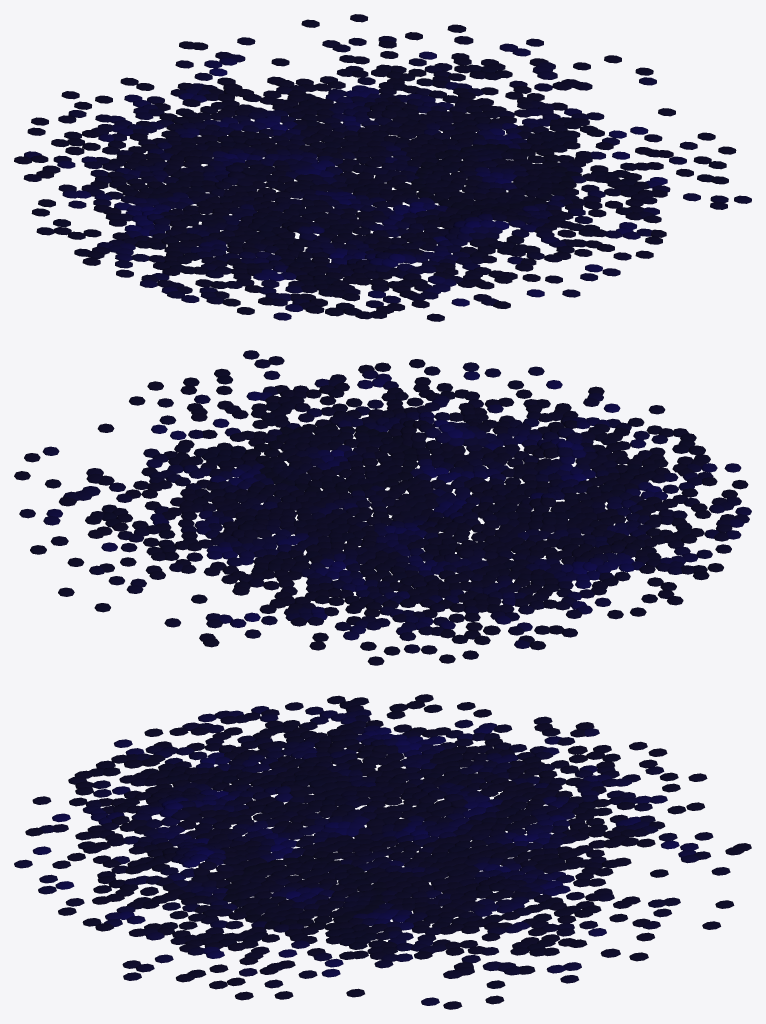
The model's file is Big grass terrain.fbx.
The picture shows the model from 3 angles, top to bottom: view 1: azimuth 30°, elevation 25°; view 2: azimuth 150°, elevation 25°; view 3: azimuth 270°, elevation 25°; orthographic projection. The views are drawn at different scales.
Parts seen in each view (by area): view 1: Instanced Grass.002; view 2: Instanced Grass.002; view 3: Instanced Grass.002.
Part boxes in pixels (x1,y1,x2,y2): Instanced Grass.002: [14, 14, 751, 321]; Instanced Grass.002: [14, 350, 751, 665]; Instanced Grass.002: [14, 694, 751, 1009].
Bounding box in the file's own units: 21224 × 418 × 21032.
